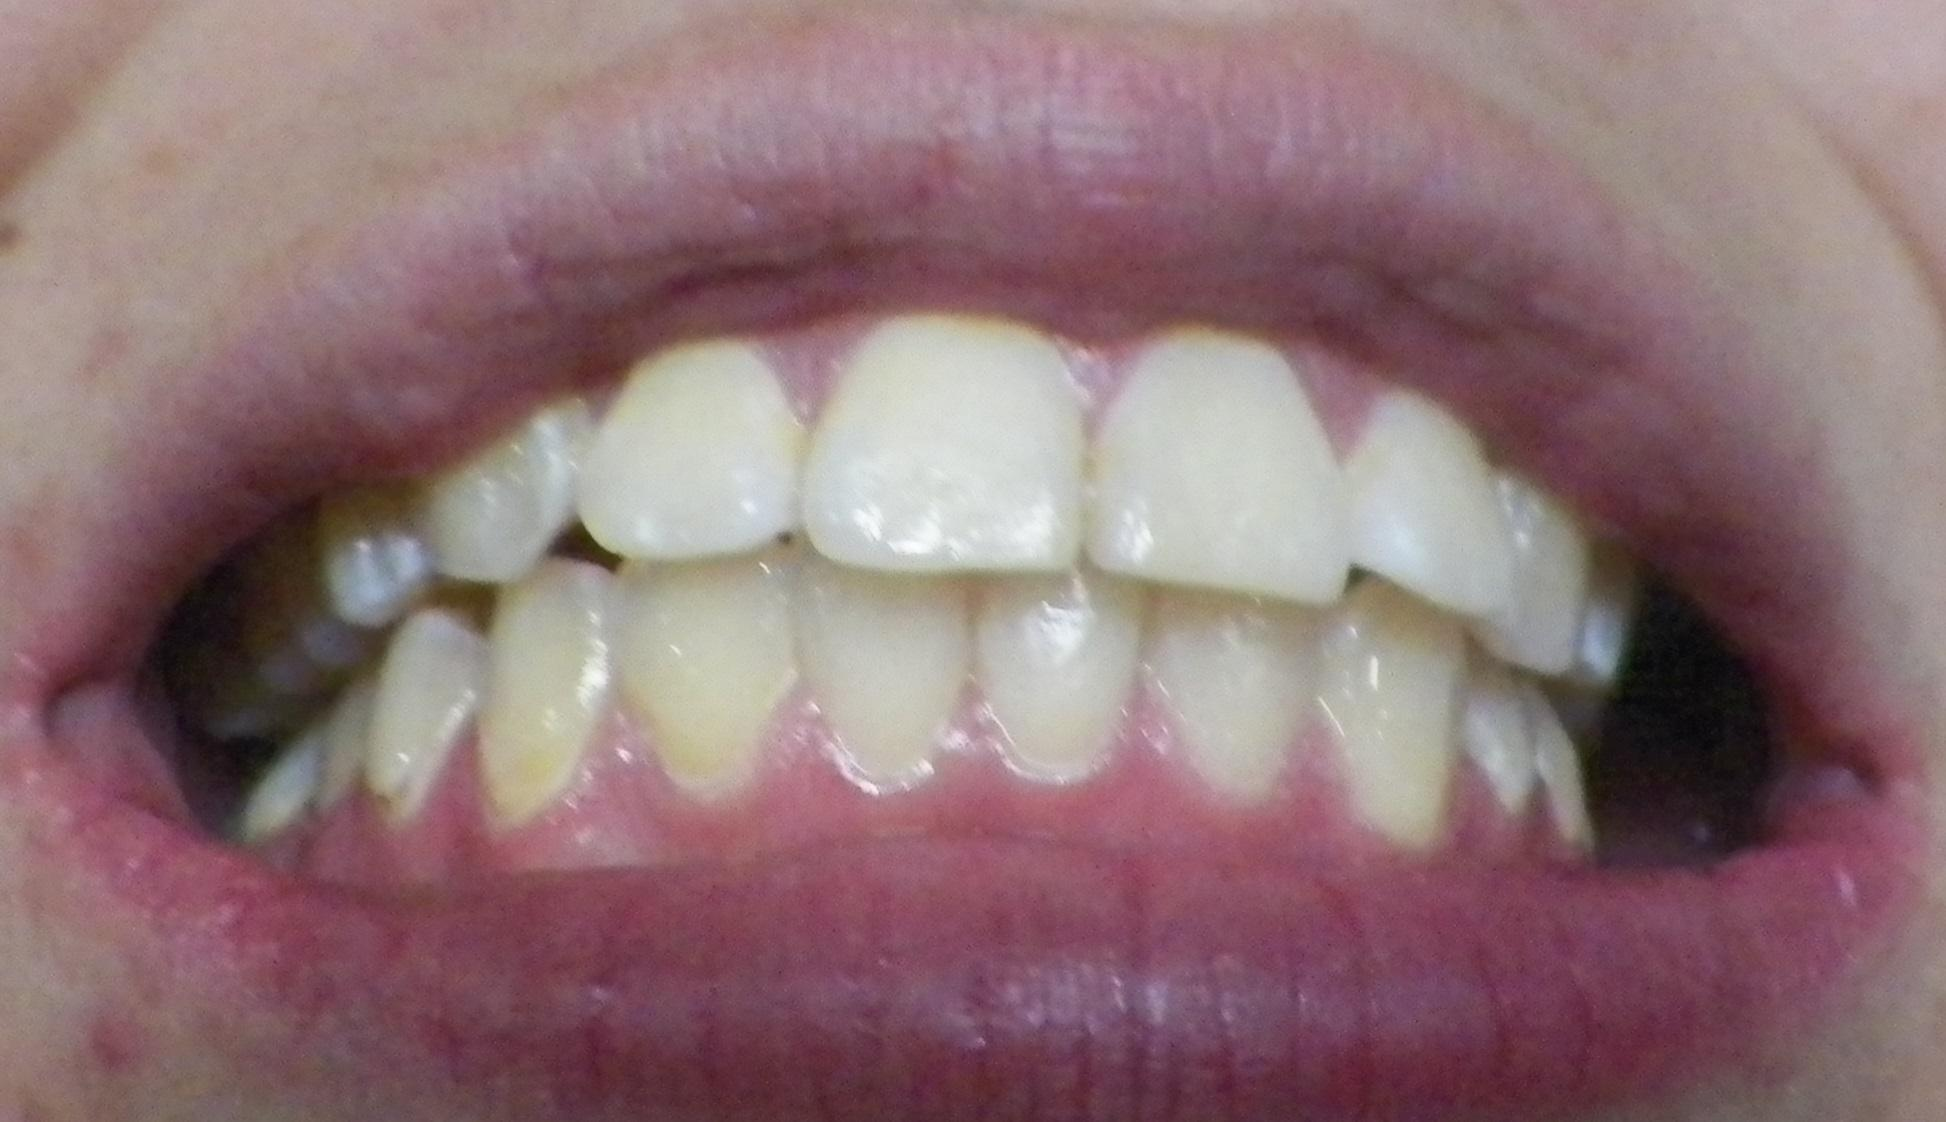cavity: (551, 313, 843, 574), (589, 514, 826, 828), (770, 519, 981, 801), (442, 538, 635, 847), (1288, 566, 1478, 875), (978, 501, 1172, 800), (1131, 546, 1326, 812), (400, 350, 599, 588), (338, 600, 511, 828), (1476, 675, 1629, 895), (1411, 603, 1548, 821), (1478, 449, 1613, 661), (281, 445, 408, 637), (1552, 518, 1652, 675), (229, 563, 337, 706), (303, 679, 376, 820)
normal: (795, 308, 1128, 571), (1083, 316, 1361, 626), (1316, 362, 1526, 614)
